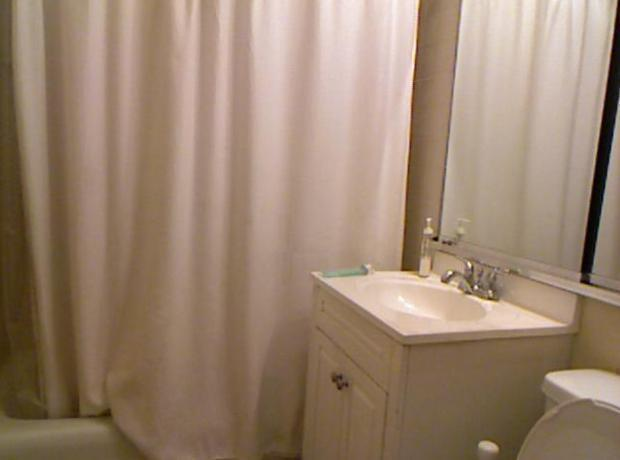Ducha: (2, 1, 401, 455)
Lavamanos: (361, 255, 515, 333)
Sanitario: (510, 371, 619, 455)
